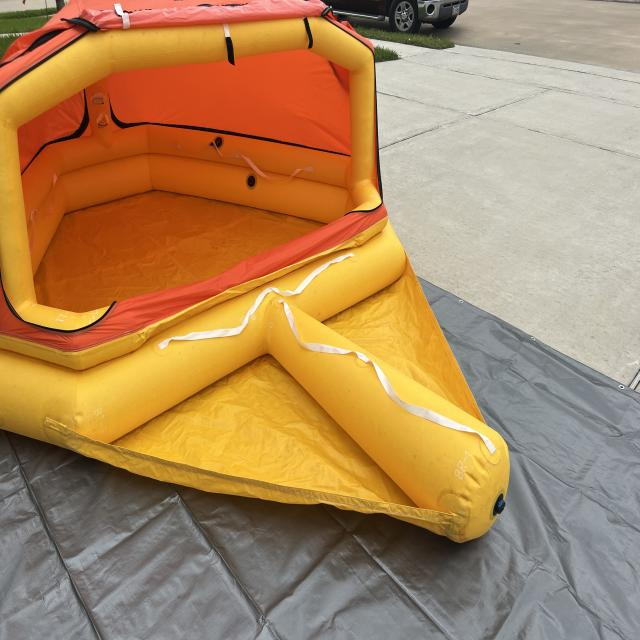Multi-person_life_raft: (0, 1, 510, 544)
